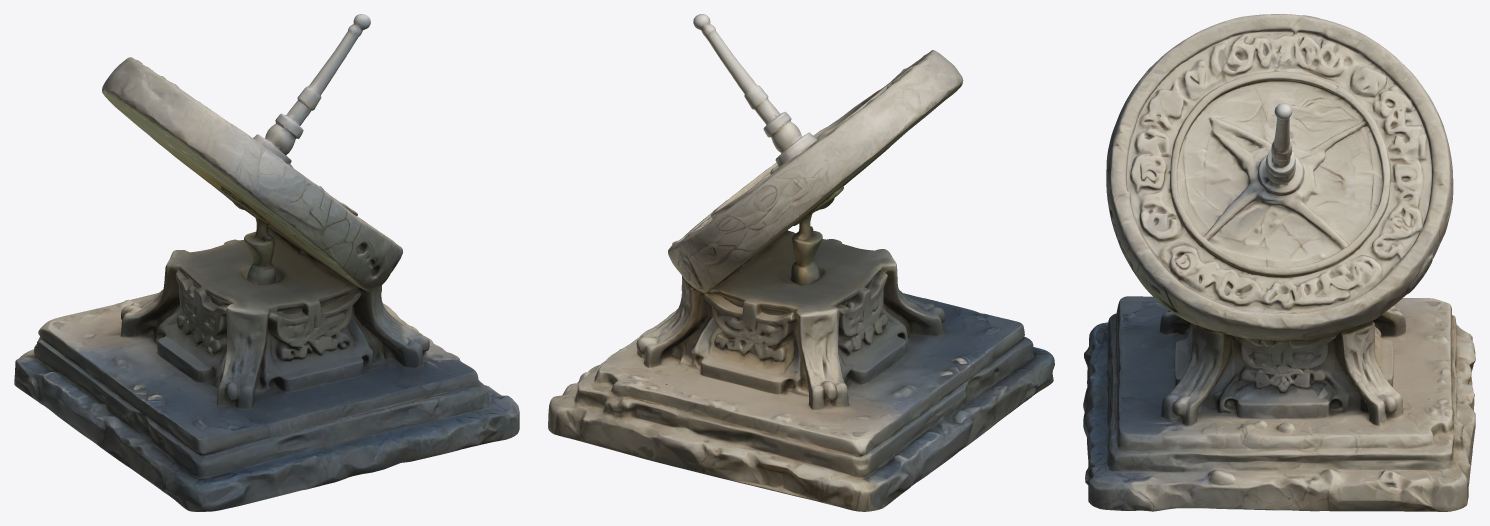
The model's file is plaza-clock-sundial.glb.
3 views of the same model, side by side, from view 1: azimuth 30°, elevation 25°; view 2: azimuth 150°, elevation 25°; view 3: azimuth 270°, elevation 25° (orthographic).
Parts seen in each view (by area): view 1: tripo_node_caffa866-d694-425e-aefb-bde3bfd2261c; view 2: tripo_node_caffa866-d694-425e-aefb-bde3bfd2261c; view 3: tripo_node_caffa866-d694-425e-aefb-bde3bfd2261c.
Boxes of the visible parts, x1,y1,x2,y2 form: tripo_node_caffa866-d694-425e-aefb-bde3bfd2261c: (14,14,519,511); tripo_node_caffa866-d694-425e-aefb-bde3bfd2261c: (548,14,1054,511); tripo_node_caffa866-d694-425e-aefb-bde3bfd2261c: (1083,14,1475,511).
Size of the model in its own units: 1.47 by 1.5 by 1.43.
1 material, 1 textured.
